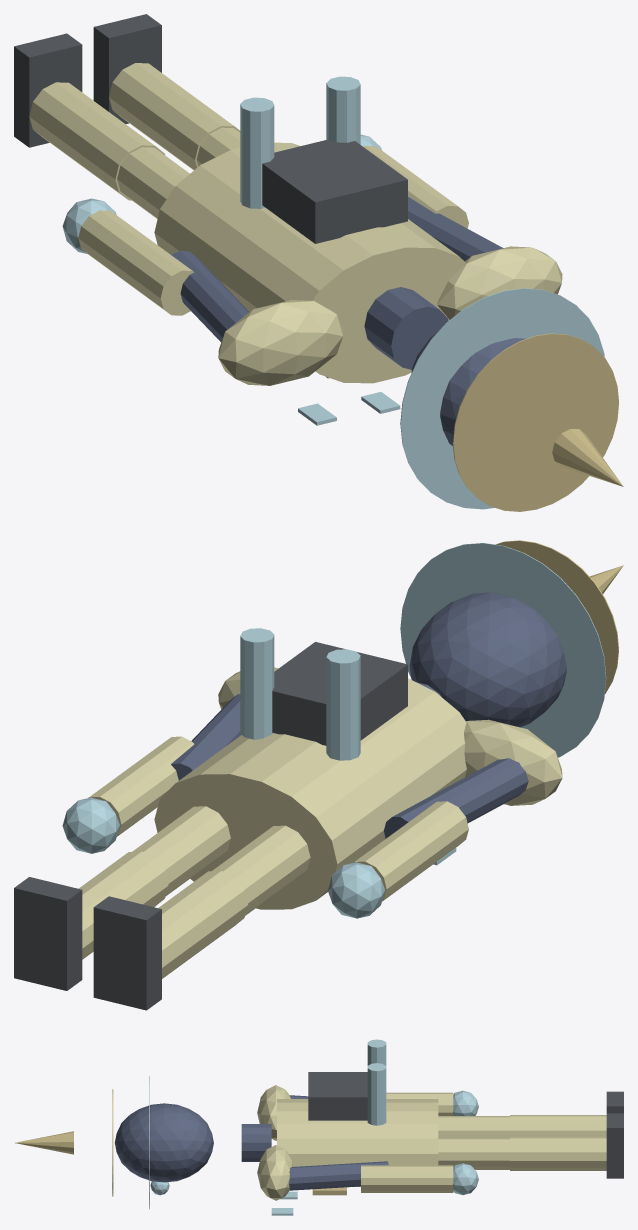
Rendered from SWN-049_captain_aurex_dawnhelm.glb.
3 renders of one model, top to bottom at view 1: azimuth 30°, elevation 25°; view 2: azimuth 150°, elevation 25°; view 3: azimuth 270°, elevation 25°, orthographic. The views are drawn at different scales.
Visible parts, largest first — view 1: body_spine, rank_halo_ring, orbit_ring, back_thruster_pack, shoulder_plate_-1, greave_-1, greave_1, forearm_gauntlet_-1, shoulder_plate_1, boot_-1, neck, boot_1 (+10 smaller); view 2: body_spine, head, orbit_ring, back_thruster_pack, boot_-1, boot_1, greave_-1, forearm_gauntlet_-1, shoulder_plate_-1, thigh_1, thigh_-1, forearm_gauntlet_1 (+8 smaller); view 3: body_spine, head, greave_1, back_thruster_pack, forearm_gauntlet_1, thigh_1, greave_-1, upper_arm_1, thigh_-1, shoulder_plate_1, aether_thruster_1, boot_1 (+9 smaller).
Part boxes in pixels (x1,y1,x2,y2): body_spine: (154,142,466,383); rank_halo_ring: (452,333,618,511); orbit_ring: (400,288,604,509); back_thruster_pack: (262,139,407,243); shoulder_plate_-1: (218,300,343,385); greave_-1: (29,82,165,200); greave_1: (109,63,240,170); forearm_gauntlet_-1: (78,210,194,315); shoulder_plate_1: (437,246,562,320); boot_-1: (14,33,82,147); neck: (364,287,448,369); boot_1: (93,14,161,123); body_spine: (154,678,466,909); head: (409,592,566,727); orbit_ring: (400,543,606,757); back_thruster_pack: (272,642,407,745); boot_-1: (93,896,161,1010); boot_1: (14,877,82,990); greave_-1: (158,871,247,978); forearm_gauntlet_-1: (353,801,468,901); shoulder_plate_-1: (464,719,562,805); thigh_1: (132,806,230,895); thigh_-1: (212,825,310,915); forearm_gauntlet_1: (88,736,194,836); body_spine: (277,1099,438,1186); head: (114,1103,213,1182); greave_1: (510,1136,606,1170); back_thruster_pack: (308,1072,367,1120); forearm_gauntlet_1: (361,1165,453,1192); thigh_1: (438,1137,509,1169); greave_-1: (510,1115,606,1136); upper_arm_1: (289,1161,388,1190); thigh_-1: (438,1116,509,1137); shoulder_plate_1: (257,1145,293,1200); aether_thruster_1: (367,1063,386,1125); boot_1: (606,1113,623,1178).
Size of the model in its own units: 1.04 by 0.76 by 2.84.
